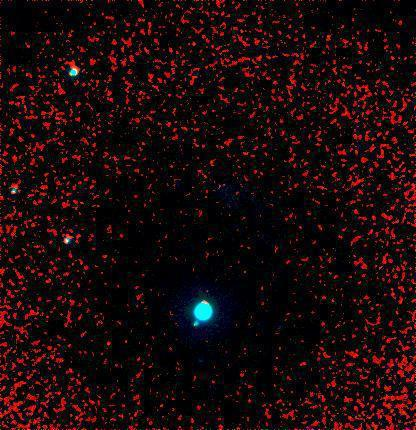star: (178, 172, 208, 202)
